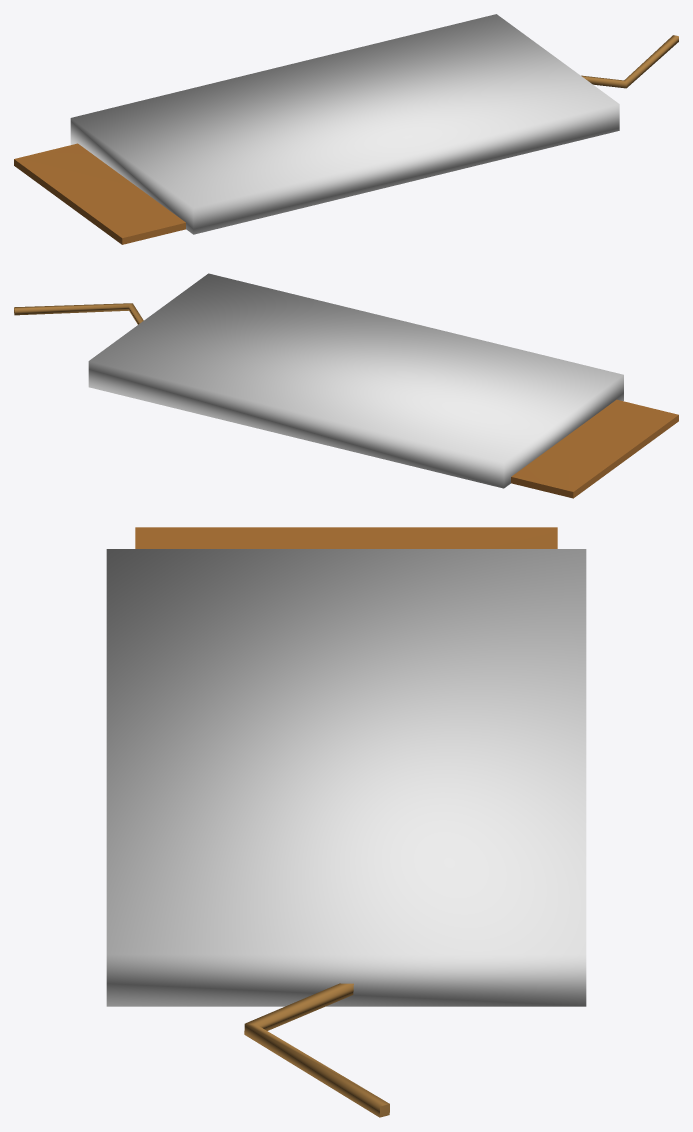
The model's file is etiqueta.glb.
3 renders of one model, top to bottom at view 1: azimuth 30°, elevation 25°; view 2: azimuth 150°, elevation 25°; view 3: azimuth 270°, elevation 25°, orthographic. The views are drawn at different scales.
Parts seen in each view (by area): view 1: etiqueta-colcaja, carton; view 2: etiqueta-colcaja, carton; view 3: etiqueta-colcaja, carton.
Boxes of the visible parts, x1,y1,x2,y2 form: etiqueta-colcaja: (70,14,619,234); carton: (14,35,678,244); etiqueta-colcaja: (88,273,623,488); carton: (14,303,678,498); etiqueta-colcaja: (106,549,586,1006); carton: (135,527,557,1117).
Size of the model in its own units: 0.1454 by 0.006 by 0.05.
